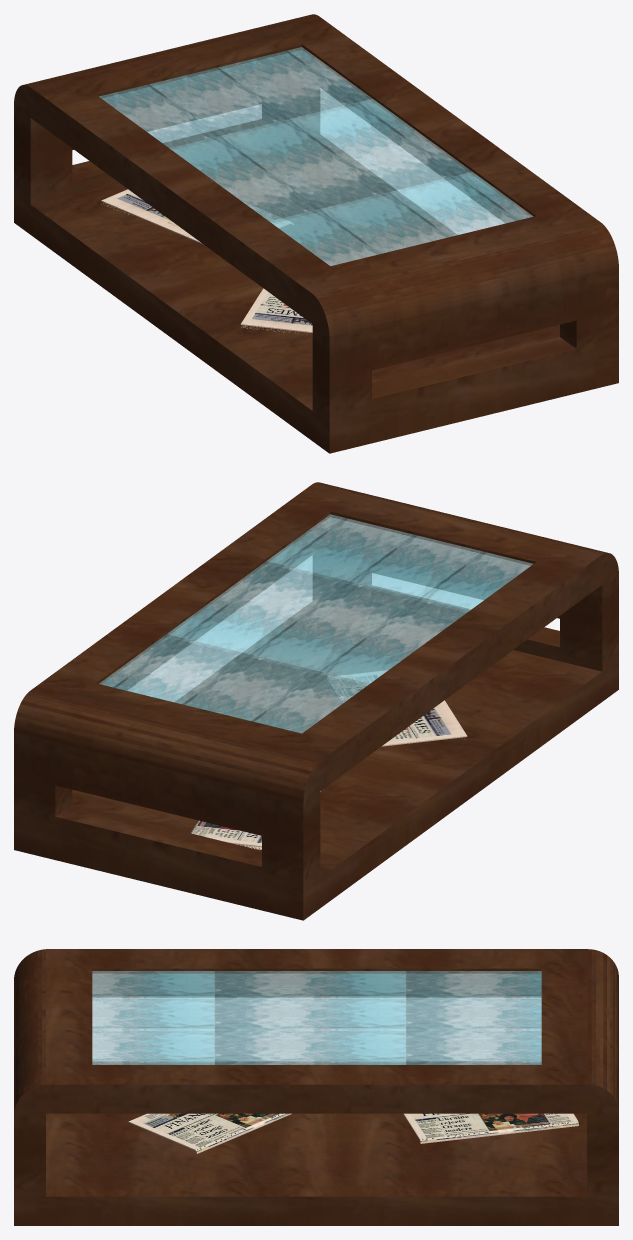
The model's file is coffee_table.dae.
3 renders of one model, top to bottom at view 1: azimuth 30°, elevation 25°; view 2: azimuth 150°, elevation 25°; view 3: azimuth 270°, elevation 25°, orthographic. The views are drawn at different scales.
Parts seen in each view (by area): view 1: Model, ske10A (×2); view 2: Model, ske10A (×2); view 3: Model, ske10A (×2).
Part boxes in pixels (box(x1,y1,x2,y2)): Model: box(14, 14, 618, 453); ske10A (×2): box(101, 189, 312, 332); Model: box(14, 482, 618, 920); ske10A (×2): box(191, 670, 467, 849); Model: box(14, 949, 618, 1225); ske10A (×2): box(128, 1113, 578, 1153).
Bounding box in the file's own units: 7.66 × 14.46 × 3.73.
Materials: 4 (3 with a texture image).
